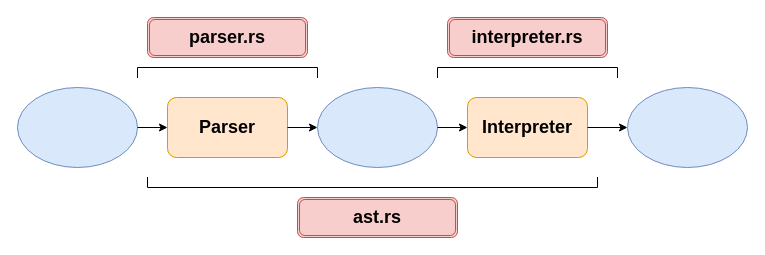
Image size: 765x255. Some labels were removed from this diagram. The shapes that lost their labels are listed below. From the top down, each one's box as (x1, y1, x2, y2) in pixels, then its label:
(16, 86, 138, 168): YAPPL file
(316, 86, 438, 168): AST Tree
(626, 86, 748, 168): Program Output
